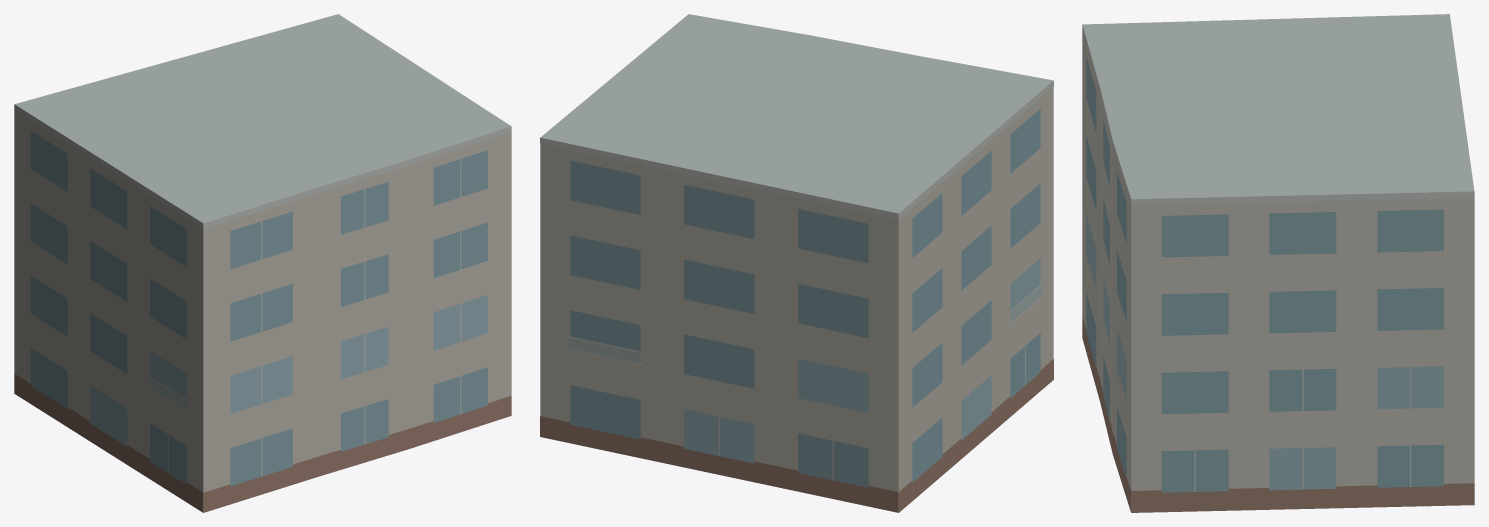
Rendered from survey-upis-32746603.glb.
3 renders of one model, left to right at view 1: azimuth 30°, elevation 25°; view 2: azimuth 150°, elevation 25°; view 3: azimuth 270°, elevation 25°, orthographic. The views are drawn at different scales.
Visible parts, largest first — view 1: survey-upis-32746603.tmp; view 2: survey-upis-32746603.tmp; view 3: survey-upis-32746603.tmp.
Boxes of the visible parts, x1,y1,x2,y2 form: survey-upis-32746603.tmp: (14, 14, 511, 512); survey-upis-32746603.tmp: (540, 14, 1053, 512); survey-upis-32746603.tmp: (1082, 14, 1474, 512).
Bounding box in the file's own units: 15.46 × 12.2 × 13.83.
